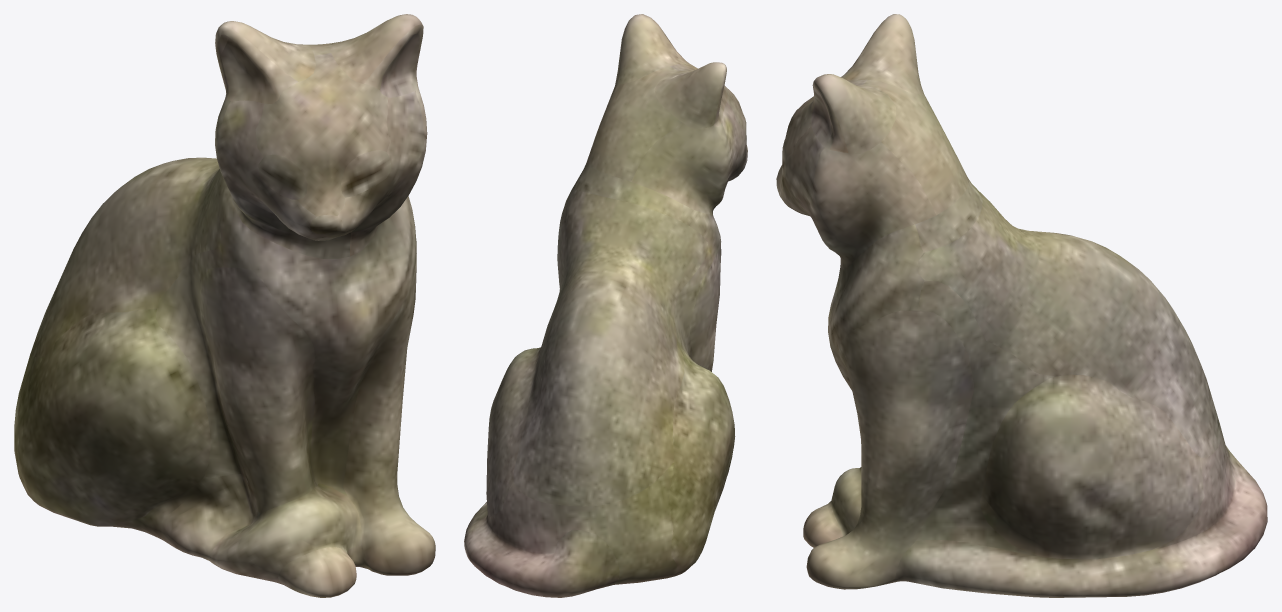
Rendered from cat-statue.glb.
The picture shows the model from 3 angles, left to right: view 1: azimuth 30°, elevation 25°; view 2: azimuth 150°, elevation 25°; view 3: azimuth 270°, elevation 25°; orthographic projection. The views are drawn at different scales.
Parts seen in each view (by area): view 1: concrete_cat_statue; view 2: concrete_cat_statue; view 3: concrete_cat_statue.
Boxes of the visible parts, bbox=[...] form: concrete_cat_statue: bbox=[14, 14, 435, 597]; concrete_cat_statue: bbox=[464, 14, 747, 597]; concrete_cat_statue: bbox=[776, 14, 1267, 597].
Size of the model in its own units: 0.153 by 0.283 by 0.25.
Materials: 1 (1 with a texture image).
